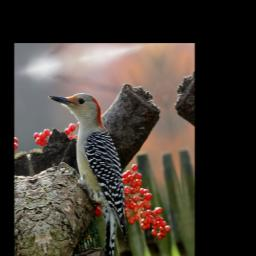Woodpecker: (43, 80, 140, 256)
